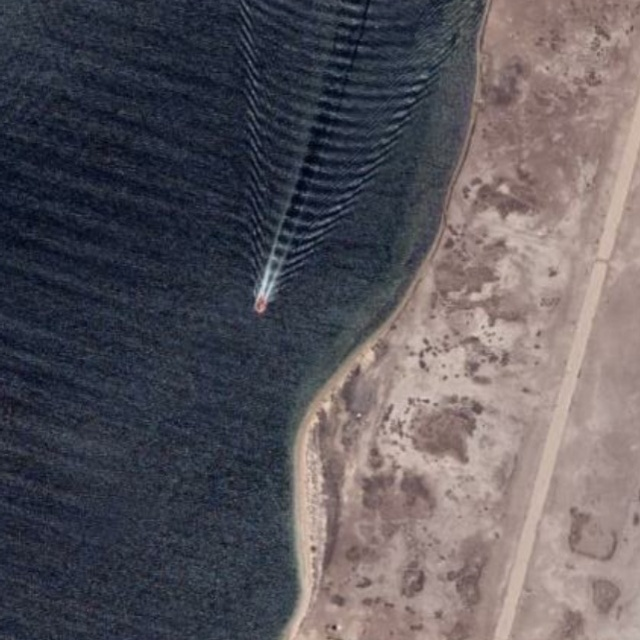wake: (199, 30, 406, 338)
